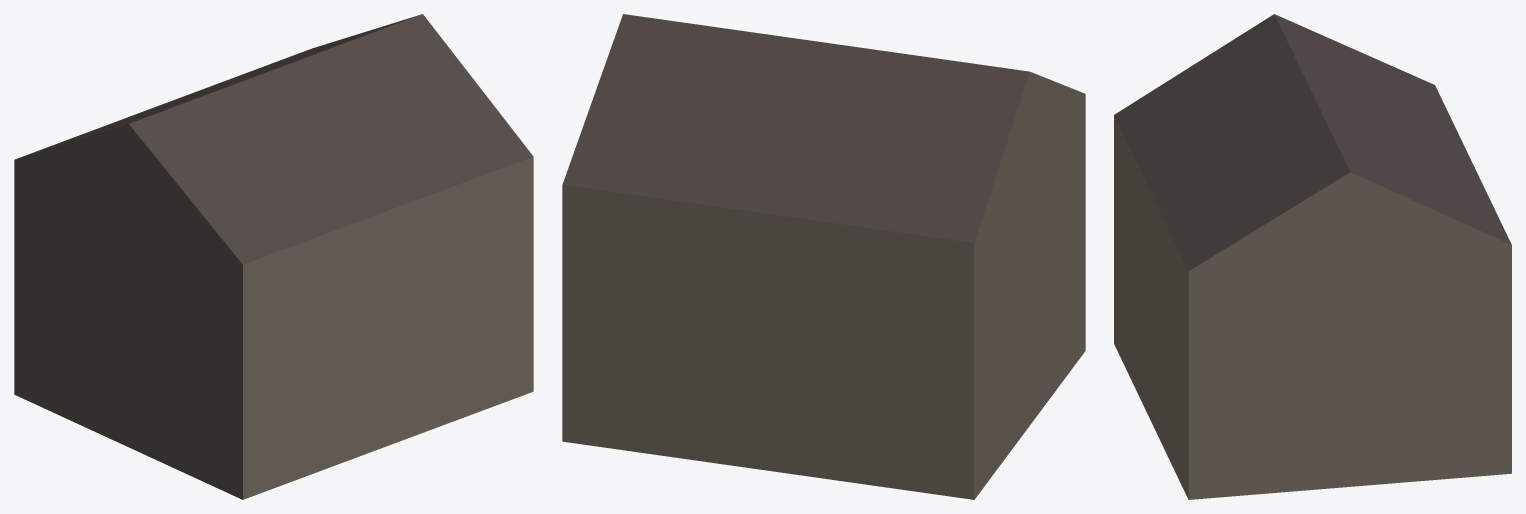
The picture shows the model from 3 angles, left to right: view 1: azimuth 30°, elevation 25°; view 2: azimuth 150°, elevation 25°; view 3: azimuth 270°, elevation 25°; orthographic projection. The views are drawn at different scales.
Visible parts, largest first — view 1: HP-w1200756574; view 2: HP-w1200756574; view 3: HP-w1200756574.
Boxes of the visible parts, <box> form: HP-w1200756574: <box>14,14,533,499</box>; HP-w1200756574: <box>562,14,1085,499</box>; HP-w1200756574: <box>1114,14,1511,499</box>.
Size of the model in its own units: 10.49 by 8.26 by 9.47.
